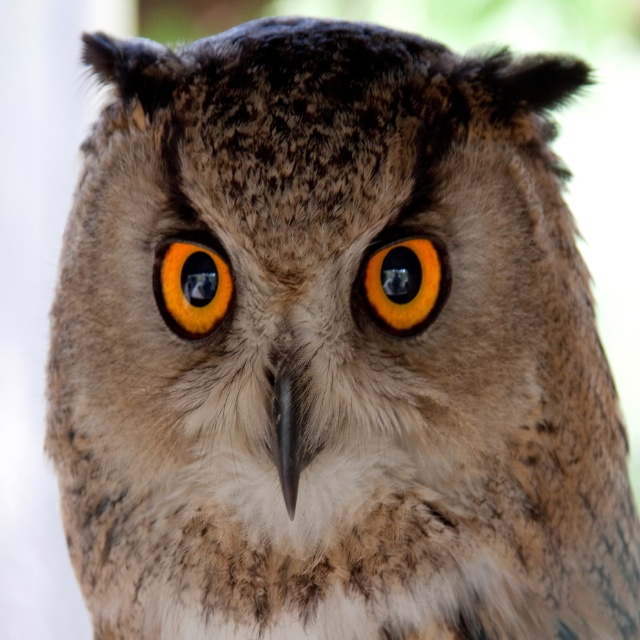Owl: (43, 13, 640, 639)
